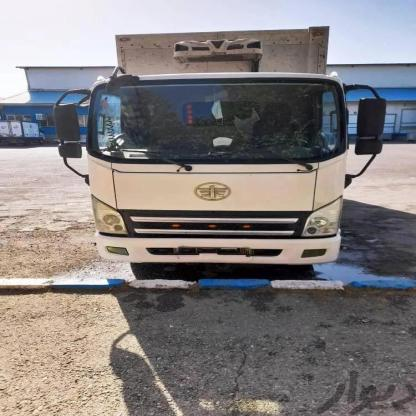Truck: (75, 23, 373, 280)
